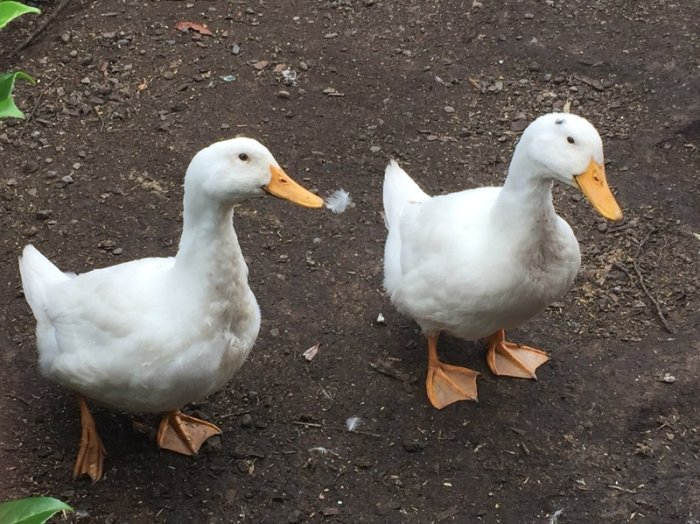Mencari Makan di Lumpur: (567, 158, 631, 227), (261, 161, 325, 215)
